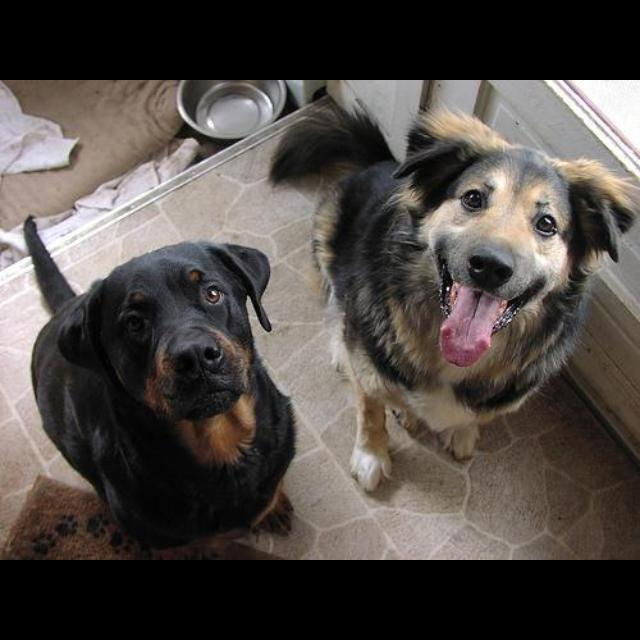other_dog_breed: (269, 98, 640, 493)
rottweiler: (22, 215, 298, 560)
